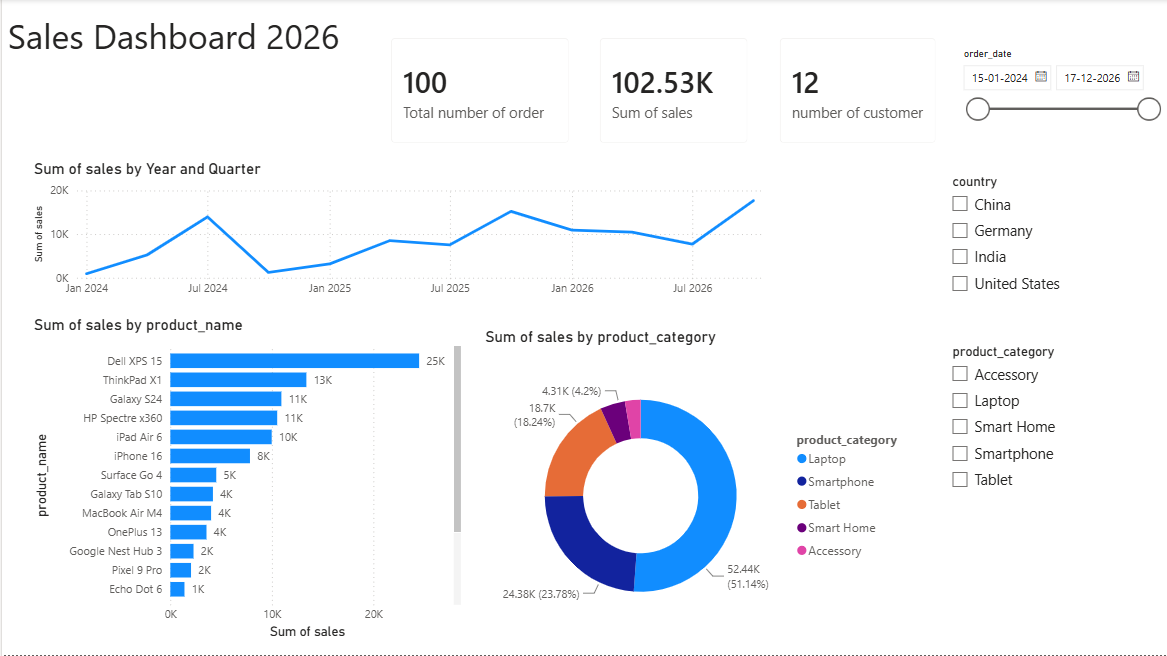

Layout of this report page (visuals, bound fields, positions):
{"tool":"powerbi","page":{"name":"Page 1","canvas":[1280,720],"ordinal":0},"visuals":[{"type":"barChart","fields":{"Category":["orders.product_name"],"Y":["Sum(orders.sales)"]},"box":[30.2,347.2,478.9,360.9],"z":0},{"type":"donutChart","fields":{"Category":["orders.product_category"],"Y":["Sum(orders.sales)"]},"box":[525.6,360.9,477.5,348.5],"z":1000},{"type":"cardVisual","fields":{"Data":["CountNonNull(orders.order_id)"]},"box":[410.3,26.1,229.2,149.6],"z":2000},{"type":"cardVisual","fields":{"Data":["Count(orders.customer_id)"]},"box":[837.1,26.1,205.8,149.6],"z":3000},{"type":"cardVisual","fields":{"Data":["Sum(orders.sales)"]},"box":[639.5,26.1,196.2,149.6],"z":4000},{"type":"lineChart","fields":{"Category":["orders.order_date.Variation.Date Hierarchy.Year","orders.order_date.Variation.Date Hierarchy.Quarter","orders.order_date.Variation.Date Hierarchy.Month","orders.order_date.Variation.Date Hierarchy.Day"],"Y":["Sum(orders.sales)"]},"box":[30.2,175.6,822,160.5],"z":5000},{"type":"slicer","fields":{"Values":["customers.country"]},"box":[1030.5,186.6,233.3,174.3],"z":6000},{"type":"slicer","fields":{"Values":["orders.product_category"]},"box":[1030.5,373.2,244.3,196.2],"z":7000},{"type":"slicer","fields":{"Values":["orders.order_date"]},"box":[1042.9,48,237.4,116.6],"z":8000},{"type":"textbox","box":[1.4,9.6,389.7,86.4],"z":9000}]}

Visuals, with their boxes in screenshot pixels (x1, y1, x2, y2), scaled from the page's 1280x720 canvas onto the 1167x656 screenshot:
barChart - orders.product_name x Sum(orders.sales): region(28, 316, 464, 645)
donutChart - orders.product_category x Sum(orders.sales): region(479, 329, 915, 646)
cardVisual - CountNonNull(orders.order_id): region(374, 24, 583, 160)
cardVisual - Count(orders.customer_id): region(763, 24, 951, 160)
cardVisual - Sum(orders.sales): region(583, 24, 762, 160)
lineChart - orders.order_date.Variation.Date Hierarchy.Year x orders.order_date.Variation.Date Hierarchy.Quarter: region(28, 160, 777, 306)
slicer - customers.country: region(940, 170, 1152, 329)
slicer - orders.product_category: region(940, 340, 1162, 519)
slicer - orders.order_date: region(951, 44, 1166, 150)
textbox: region(1, 9, 357, 87)
